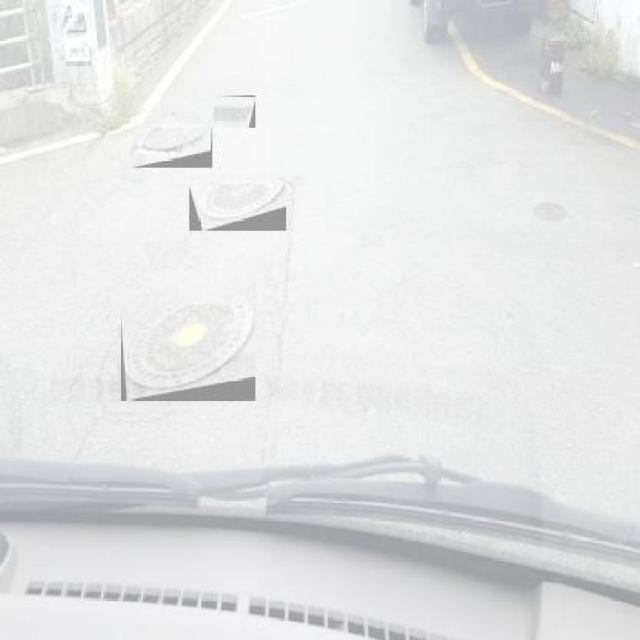Manhole: (120, 304, 256, 400), (189, 184, 286, 230), (133, 128, 213, 168), (213, 95, 256, 128), (530, 197, 572, 224)
